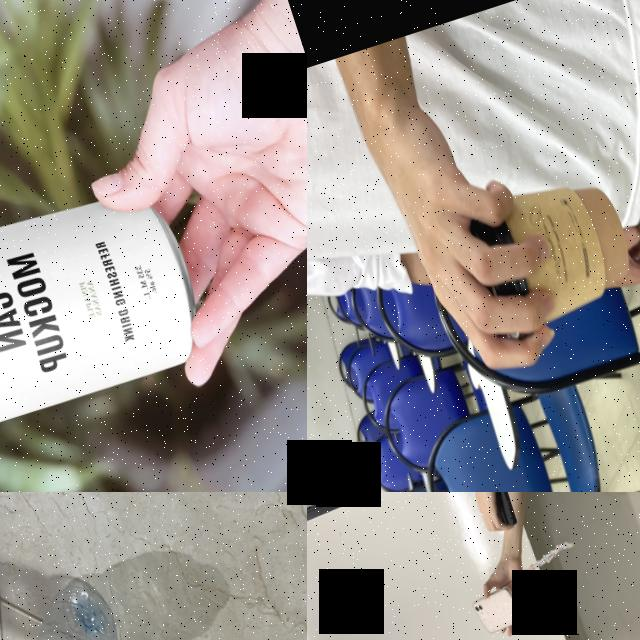bottle: (0, 559, 188, 640)
can: (0, 169, 217, 440)
cup: (462, 167, 640, 342)
